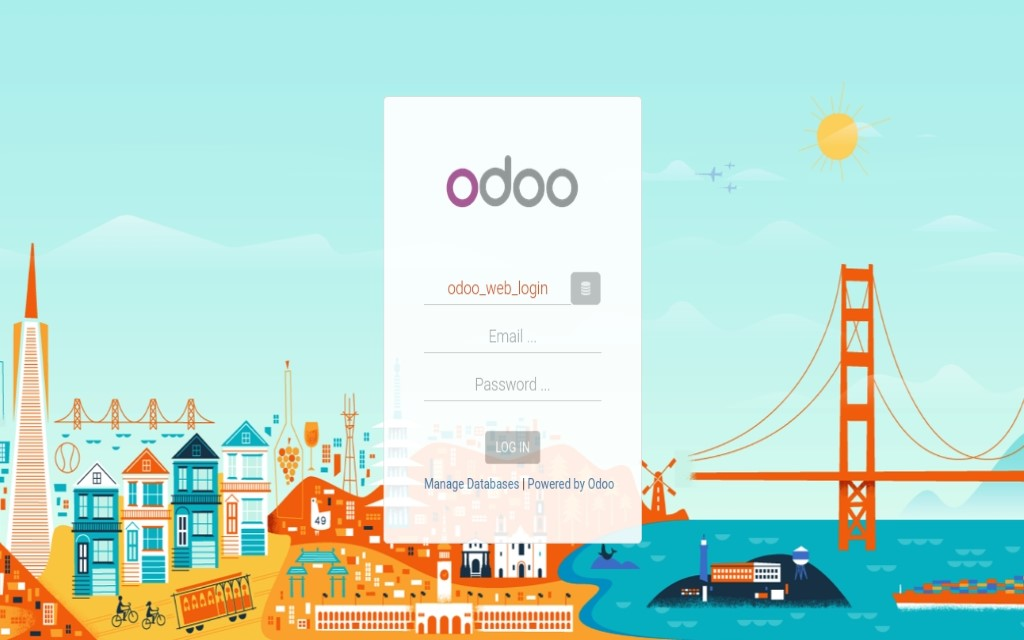button: (484, 432, 540, 463)
button_login: (483, 430, 540, 463)
label_email: (488, 326, 523, 345)
label_password: (472, 374, 541, 394), (491, 437, 533, 457)
textbox: (428, 320, 601, 350), (426, 370, 602, 398)
textbox_Email: (429, 322, 602, 351)
textbox_Password: (427, 367, 605, 400)
url: (528, 476, 615, 493), (424, 477, 522, 492)
